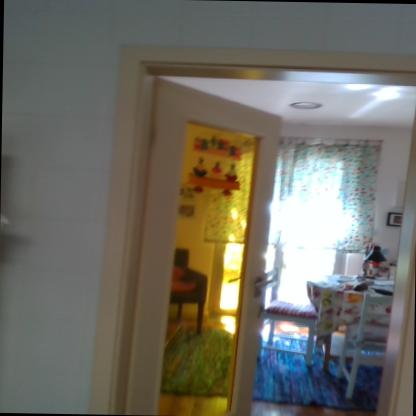semi: (111, 29, 394, 416)
